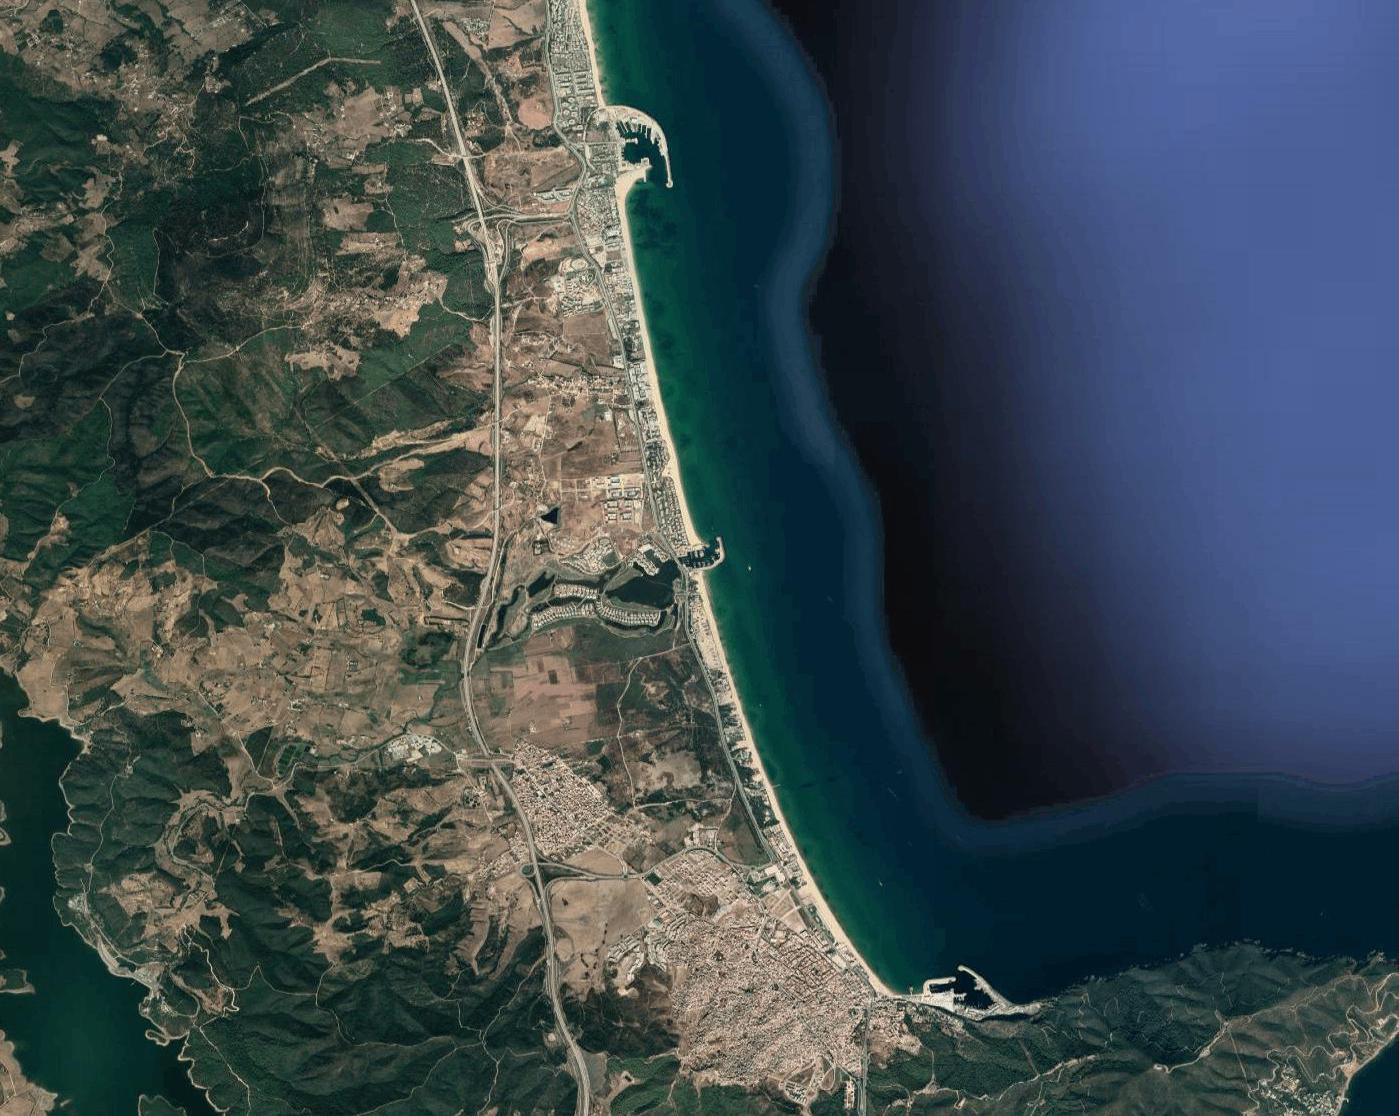harbor: (595, 97, 677, 196), (917, 965, 1017, 1021), (678, 530, 725, 577)
motorway: (536, 878, 589, 1116), (501, 780, 541, 880), (478, 208, 507, 343), (446, 97, 480, 206), (408, 1, 447, 95), (487, 340, 503, 504), (477, 503, 502, 607), (456, 607, 482, 711), (469, 709, 501, 782)
